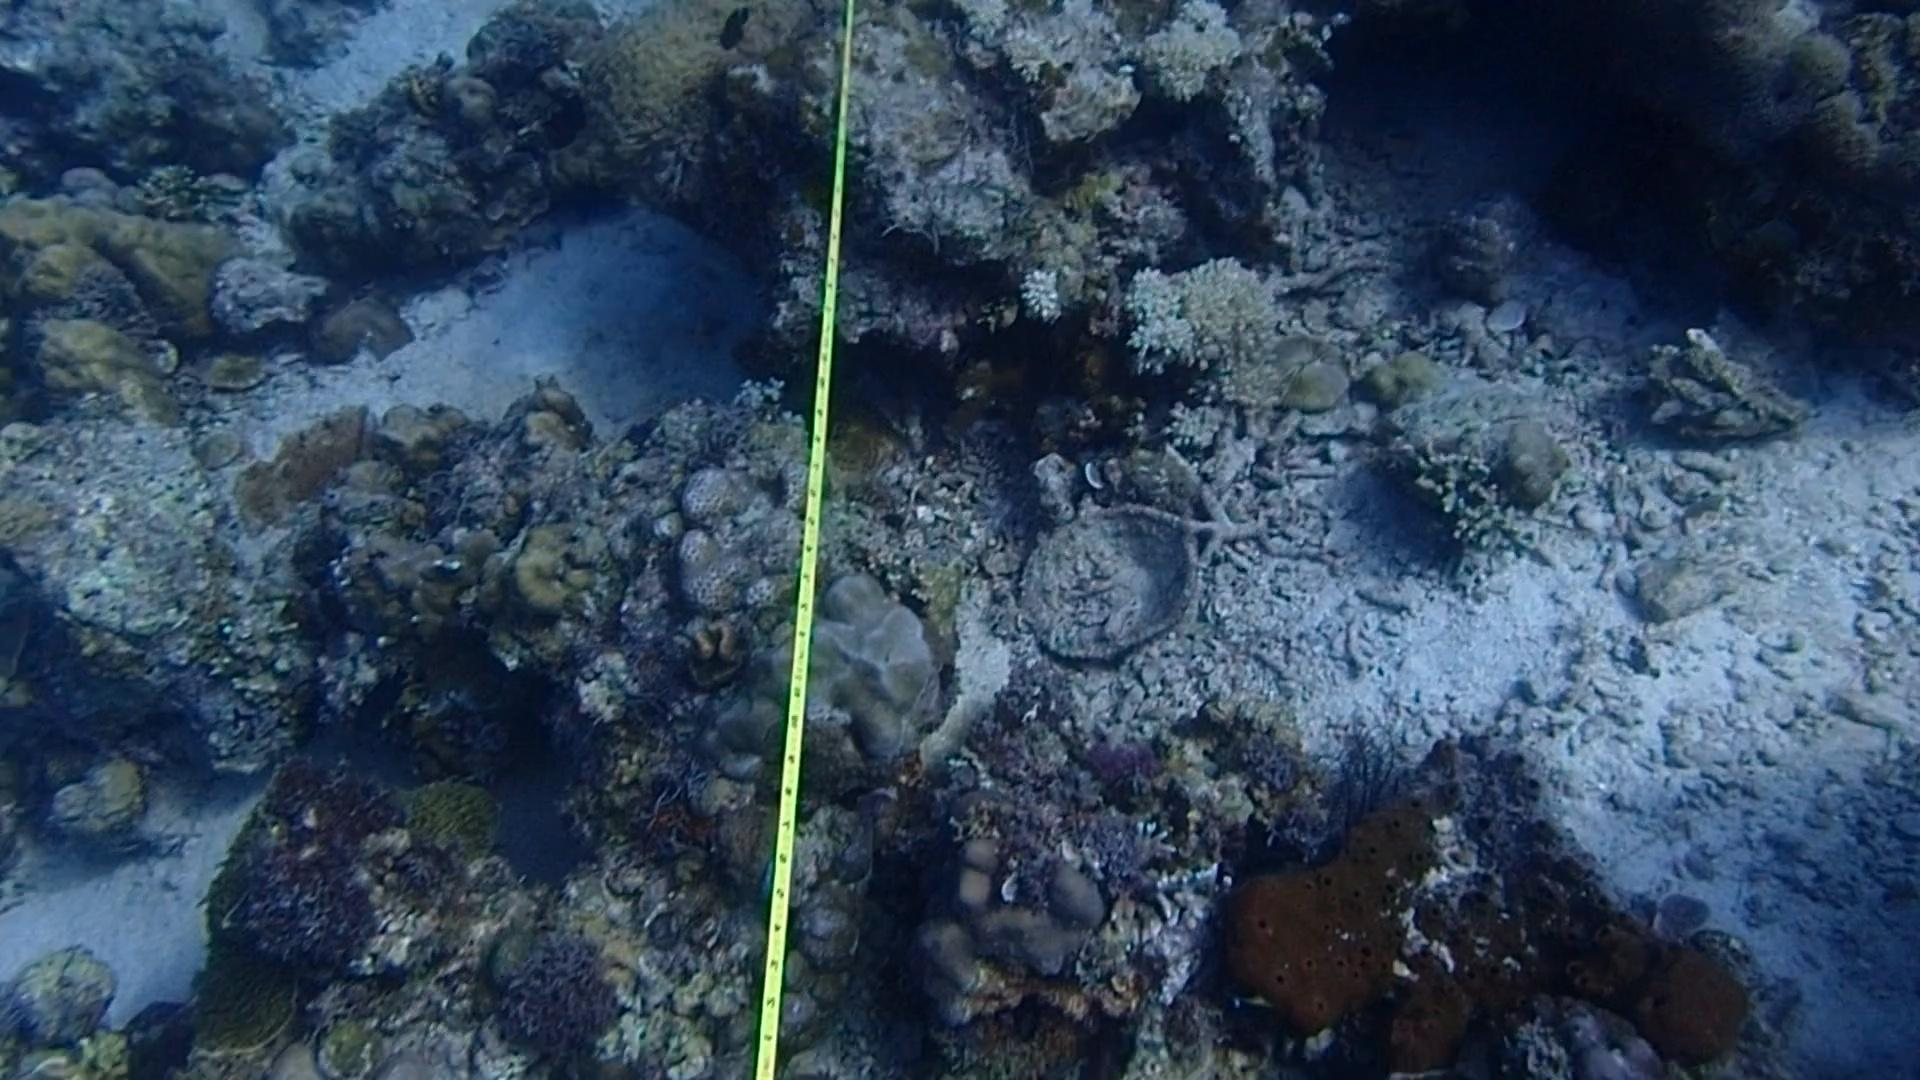Dark Fish: (343, 653, 417, 741), (526, 86, 600, 166), (712, 3, 757, 53)
